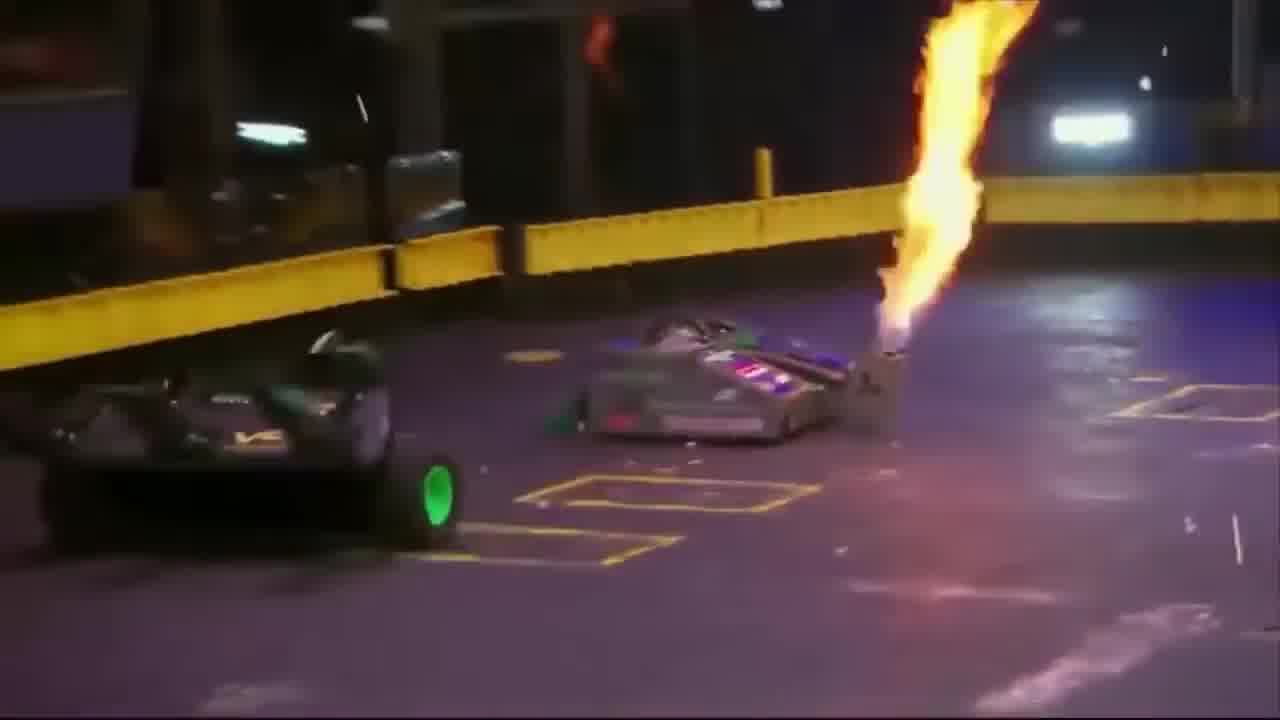combatbot: (38, 326, 464, 552), (533, 317, 911, 451)
